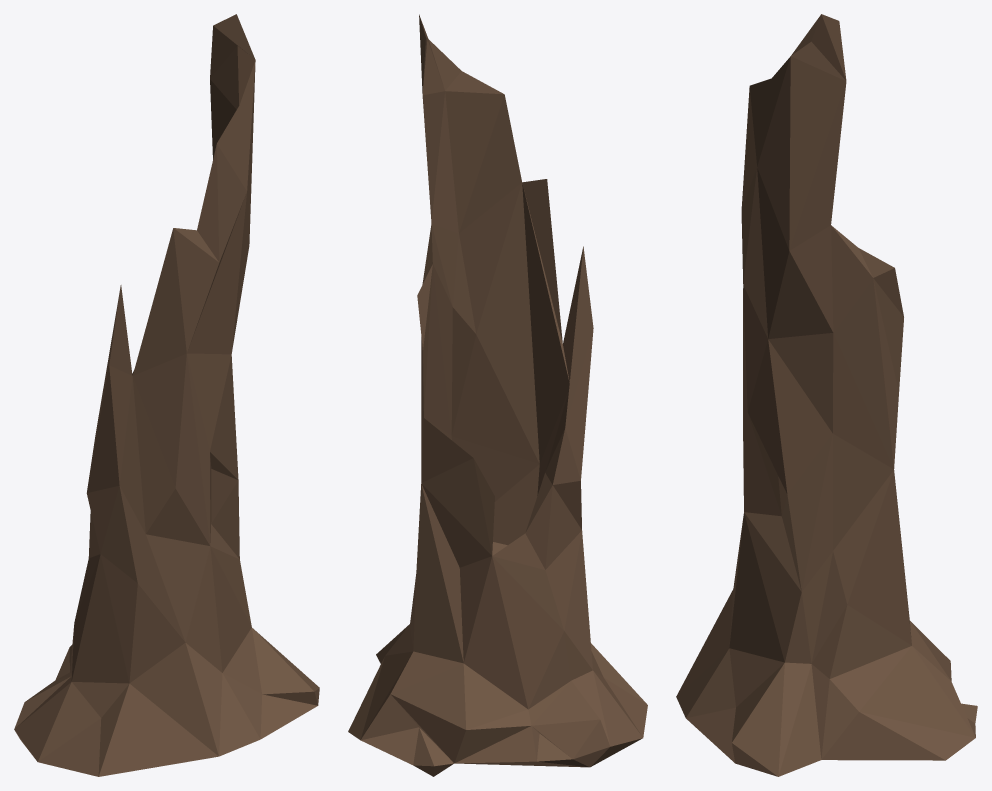
Rendered from dead-trunk.lod2.glb.
3 renders of one model, left to right at view 1: azimuth 30°, elevation 25°; view 2: azimuth 150°, elevation 25°; view 3: azimuth 270°, elevation 25°, orthographic. The views are drawn at different scales.
Parts seen in each view (by area): view 1: Trunk_low_Trunk_0; view 2: Trunk_low_Trunk_0; view 3: Trunk_low_Trunk_0.
Part boxes in pixels (x1,y1,x2,y2): Trunk_low_Trunk_0: [14, 14, 319, 776]; Trunk_low_Trunk_0: [348, 14, 647, 776]; Trunk_low_Trunk_0: [676, 14, 977, 776].
Bounding box in the file's own units: 1.85 × 4.48 × 1.63.
